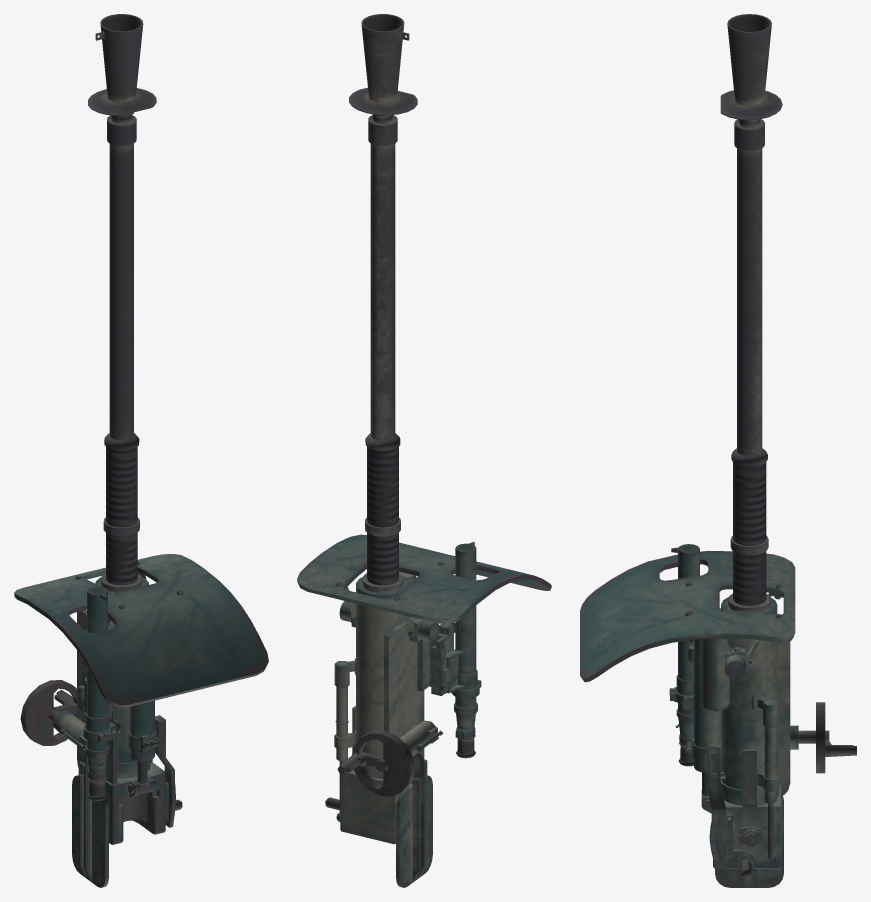
Rendered from Gun_02.glb.
The picture shows the model from 3 angles, left to right: view 1: azimuth 30°, elevation 25°; view 2: azimuth 150°, elevation 25°; view 3: azimuth 270°, elevation 25°; orthographic projection. The views are drawn at different scales.
Visible parts, largest first — view 1: set_0_group_0; view 2: set_0_group_0; view 3: set_0_group_0.
Boxes of the visible parts, x1,y1,x2,y2 form: set_0_group_0: [14, 14, 268, 887]; set_0_group_0: [297, 14, 551, 887]; set_0_group_0: [580, 14, 856, 887].
Size of the model in its own units: 0.4123 by 2.04 by 0.5817.
Materials: 1 (1 with a texture image).
